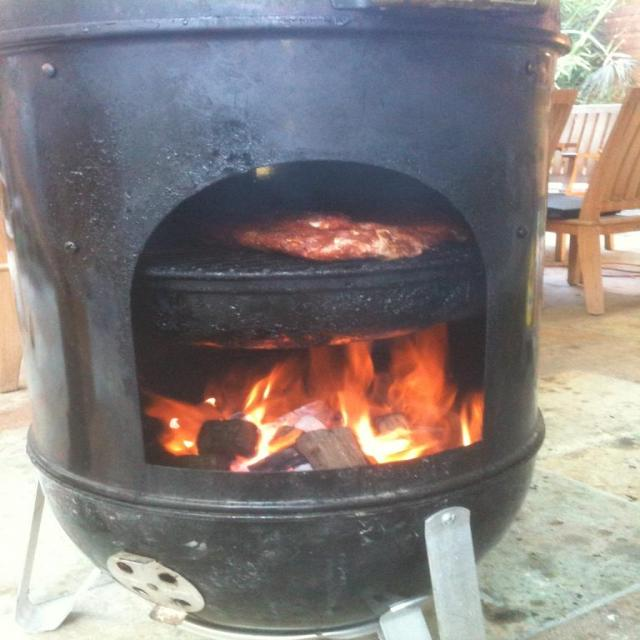Fire: (143, 337, 495, 469)
